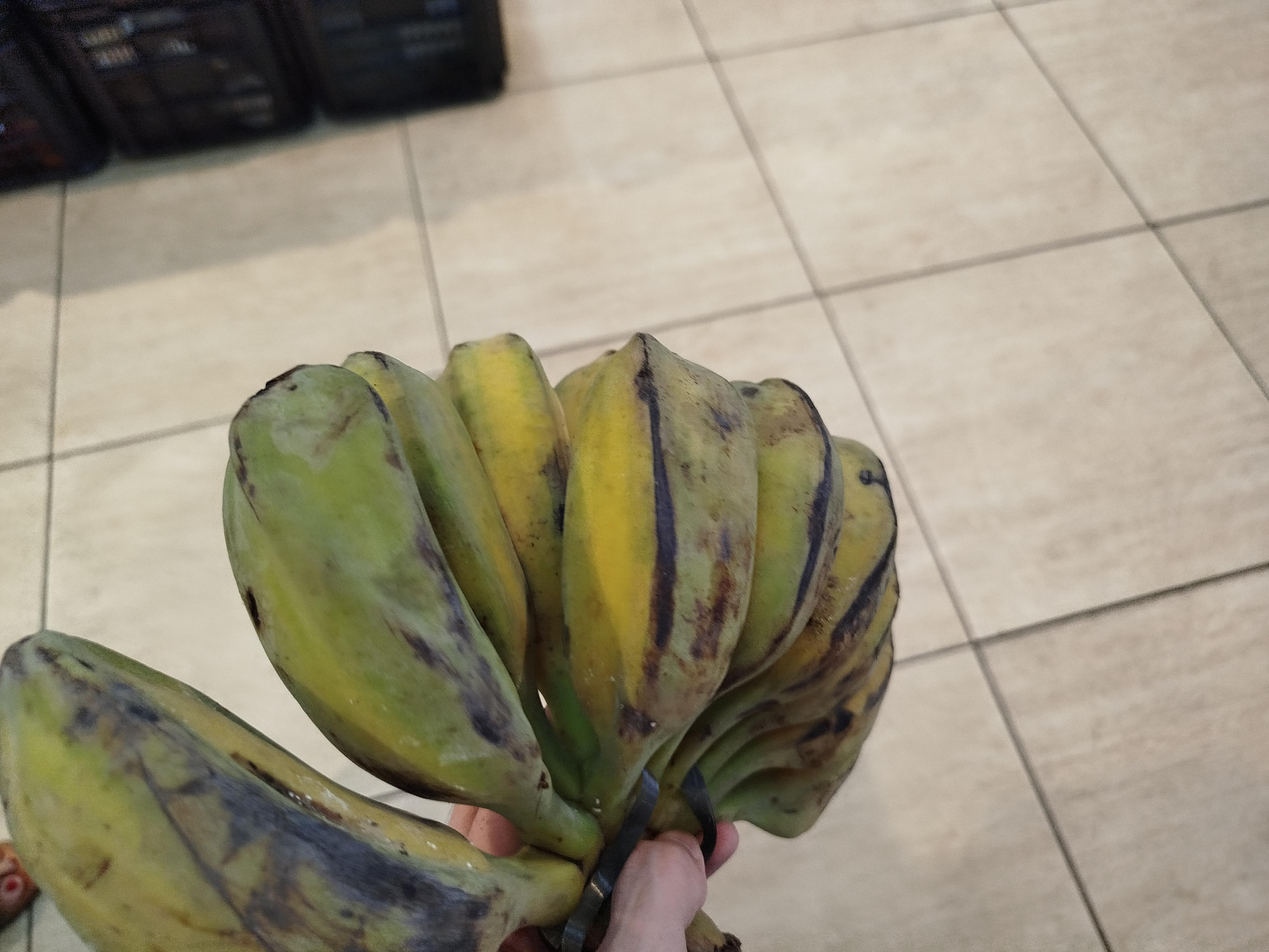underripe: (0, 334, 899, 952), (823, 776, 831, 783)
